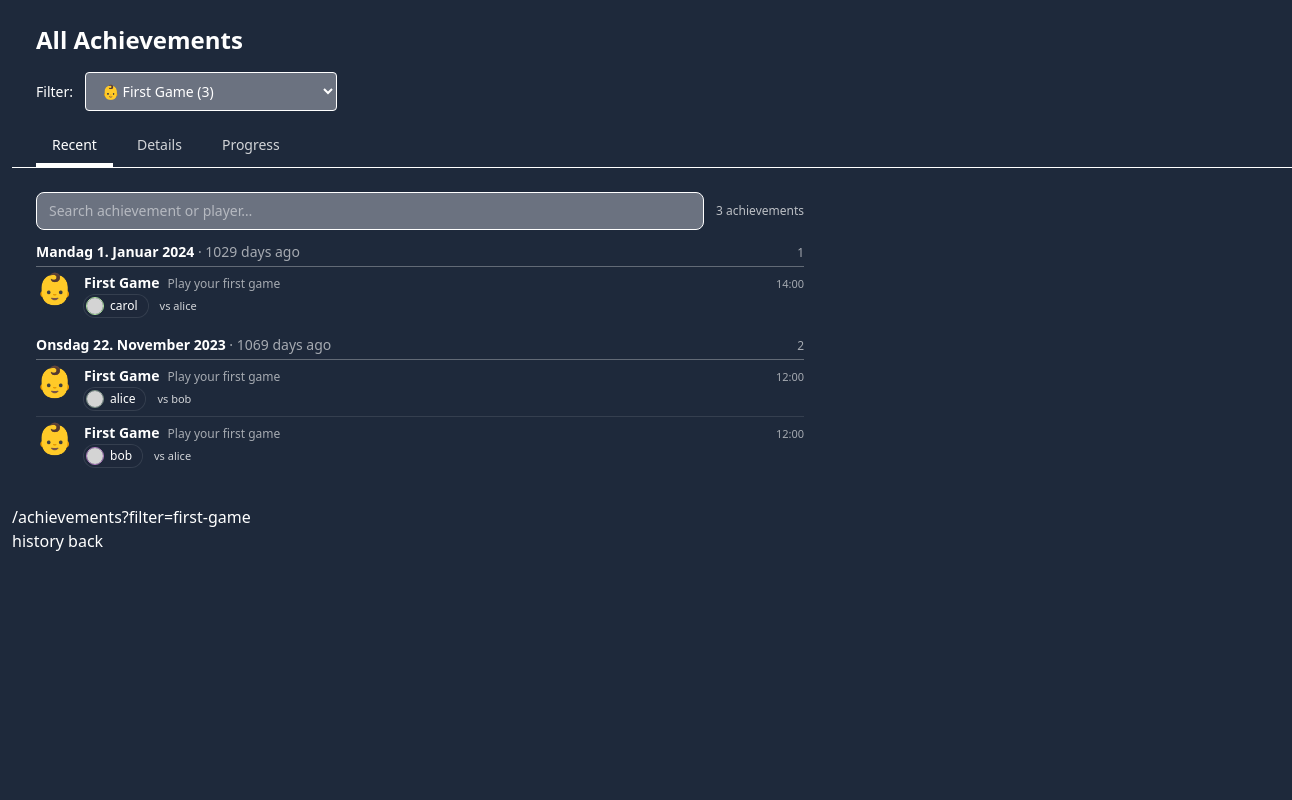
navigation from the achievements page › switches between the three views, and keeps the achievement
The width and height of the screenshot is (1292, 800).
Click the button "Details".
click(159, 147)  # box [121,127,198,167]
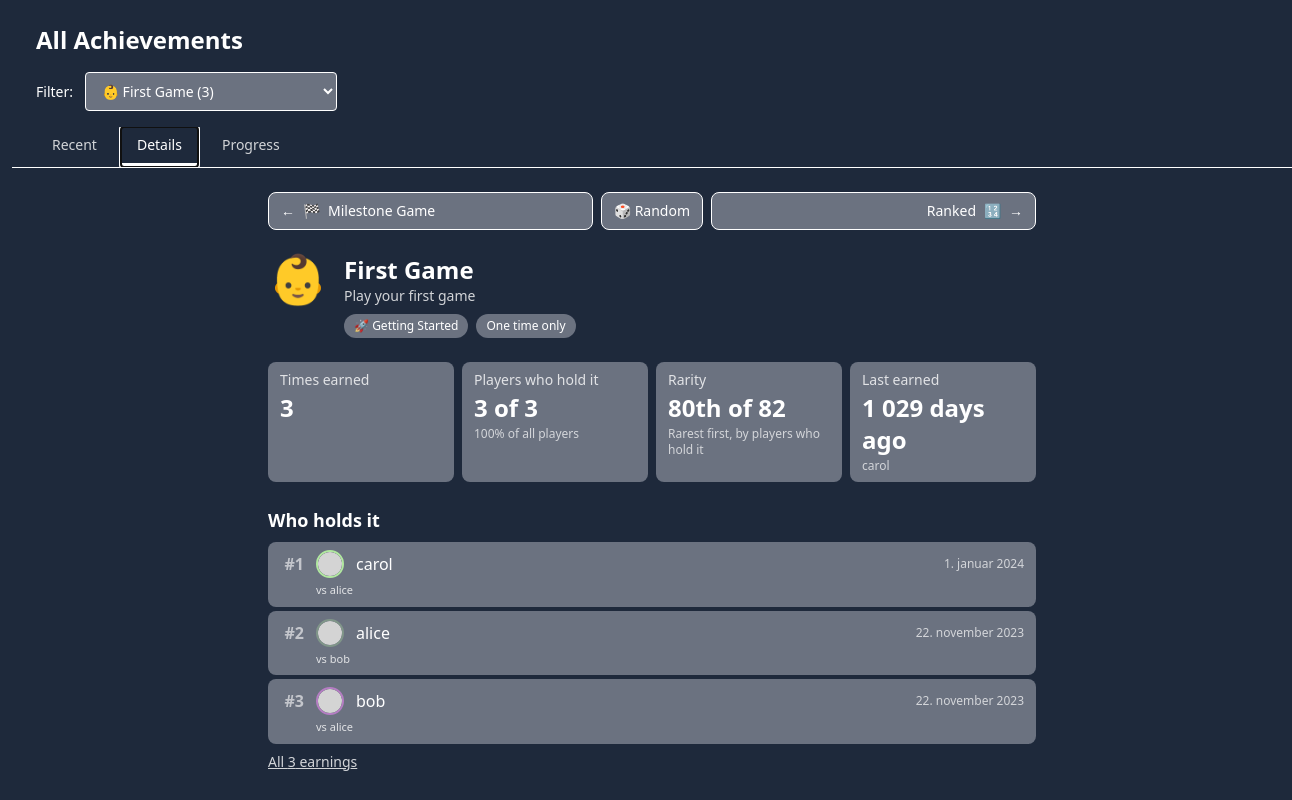
Now the text "Times earned" is shown, box [280,370,369,389]
Click the button "Progress".
click(251, 147)  # box [206,127,296,167]
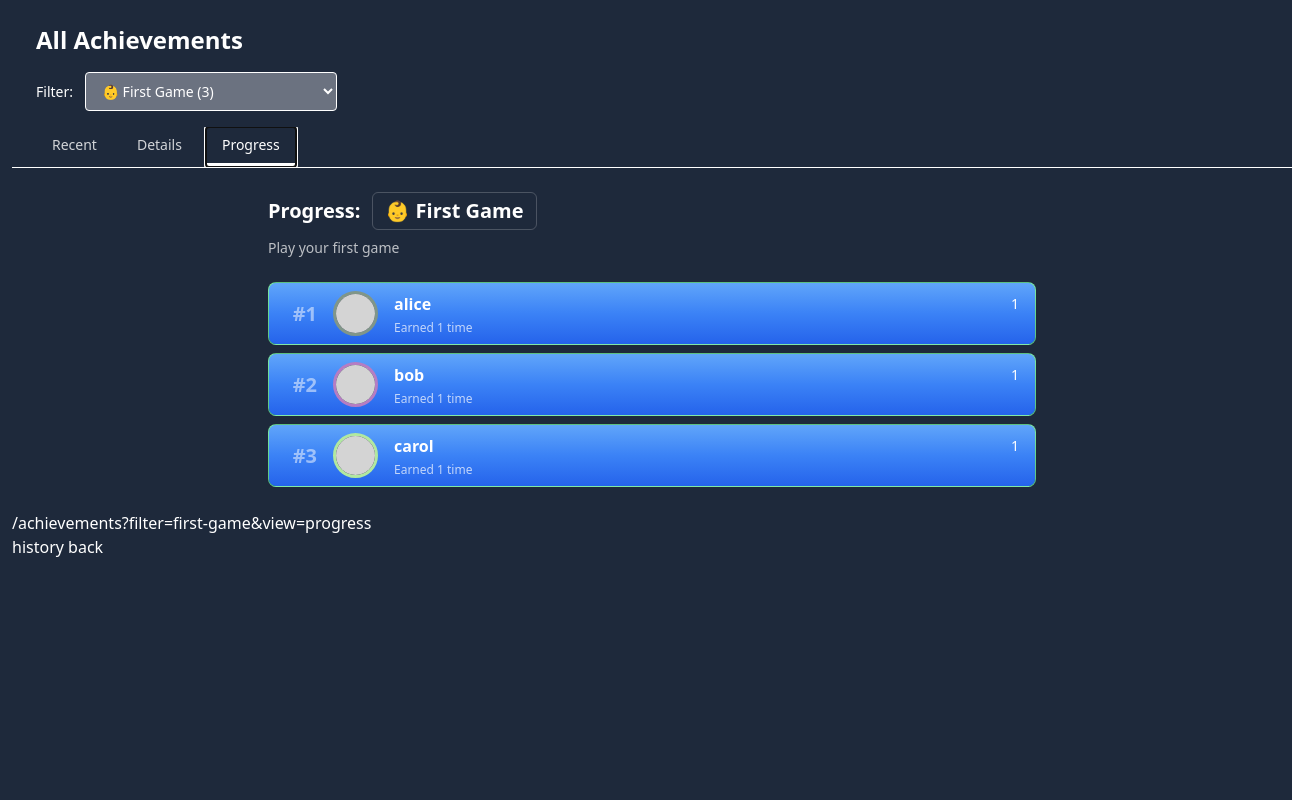
Expected: the text "👶 First Game" is shown, [372,192,537,230]
Now the text with test id "location" reads "/achievements?filter=first-game&view=progress", box [12,512,371,534]
Click the button "Recent".
click(74, 147)  # box [36,127,113,167]
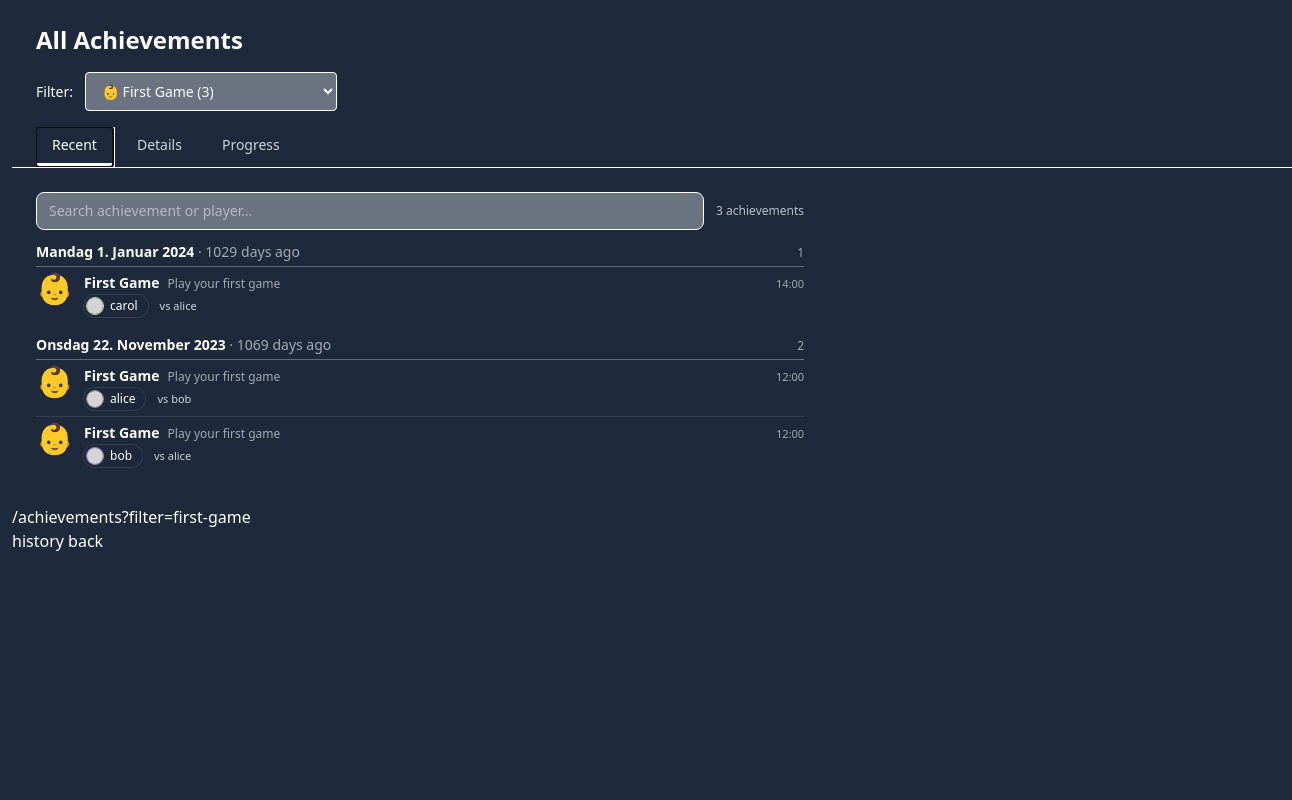
Now the text with test id "location" reads "/achievements?filter=first-game", box [12,506,251,528]
